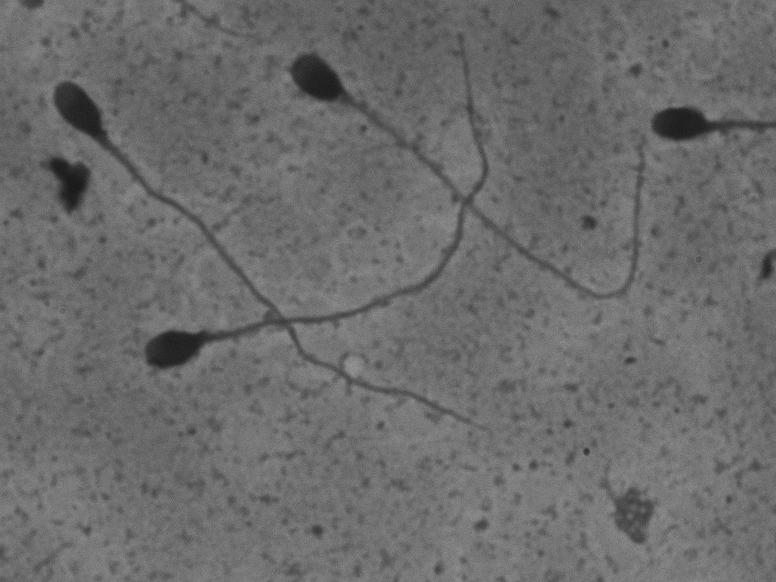Normal: (42, 66, 502, 443), (138, 27, 498, 374), (278, 33, 651, 313)
